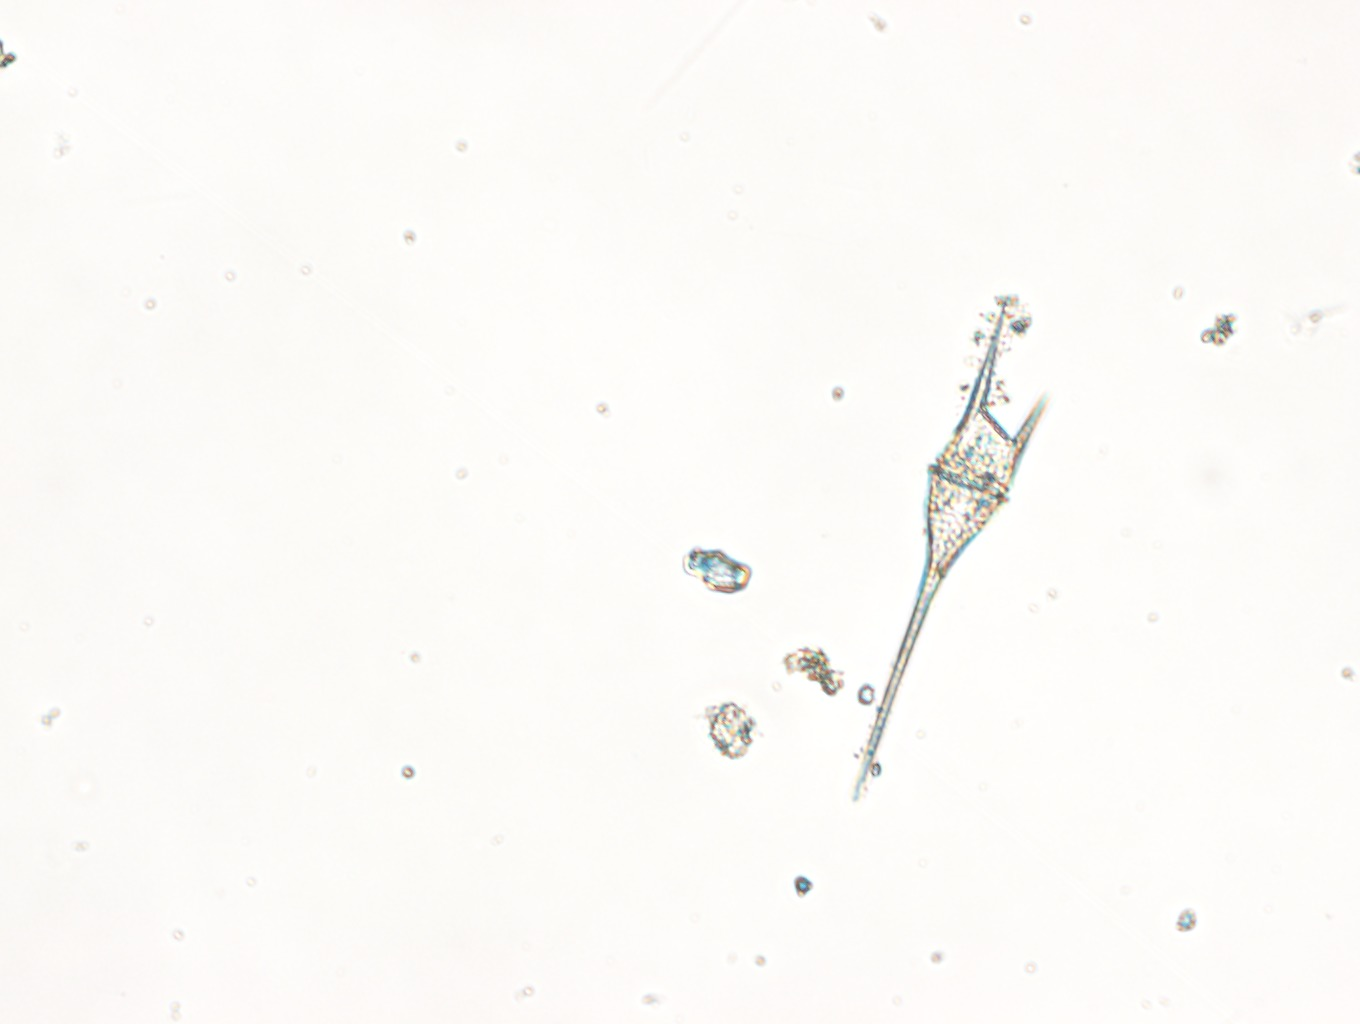ceratium furca: (848, 294, 1044, 807)
